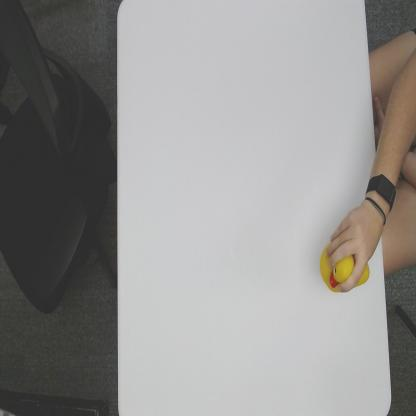Duck: (319, 244, 370, 293)
Hand: (327, 203, 384, 294)
